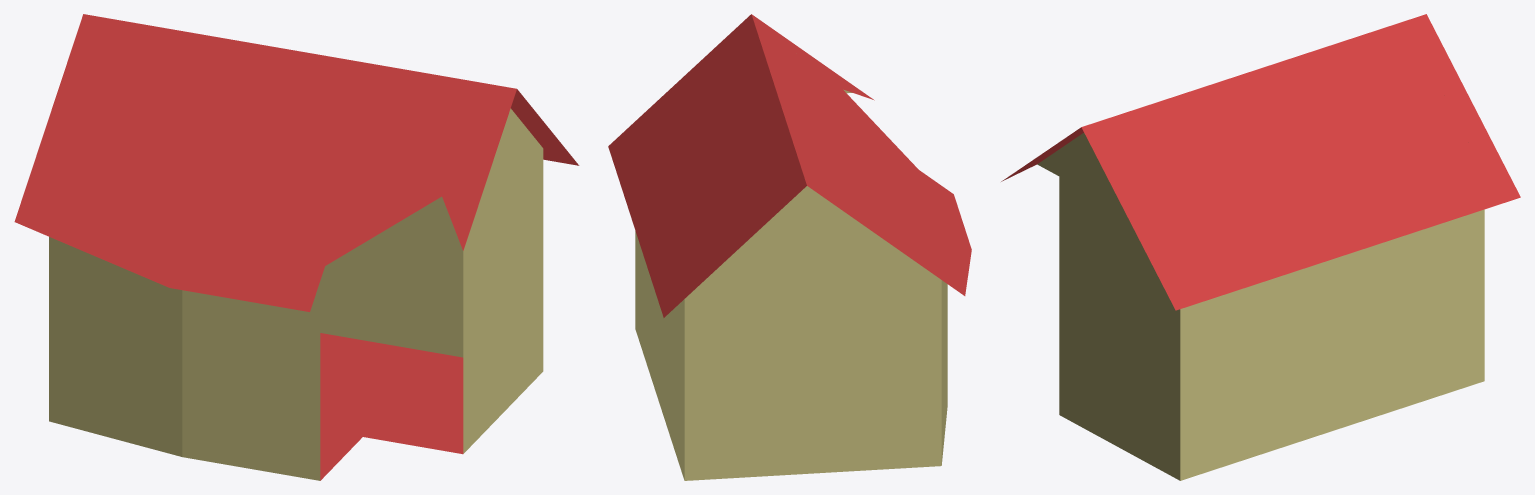
The picture shows the model from 3 angles, left to right: view 1: azimuth 30°, elevation 25°; view 2: azimuth 150°, elevation 25°; view 3: azimuth 270°, elevation 25°; orthographic projection. The views are drawn at different scales.
Size of the model in its own units: 20.26 by 20.16 by 13.57.
